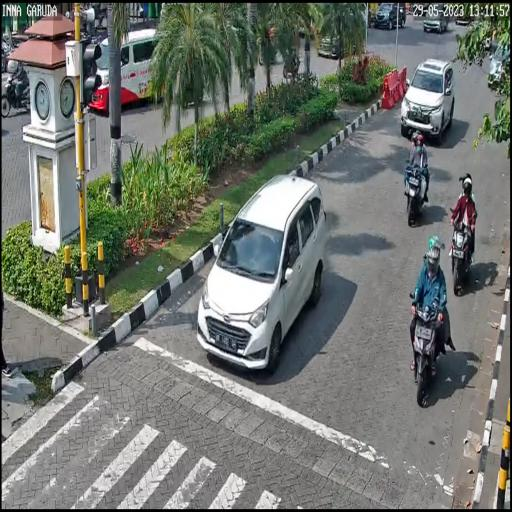mobil: (195, 174, 324, 368), (402, 57, 453, 136)
motor: (407, 287, 451, 407), (447, 208, 478, 296), (403, 159, 428, 227)
